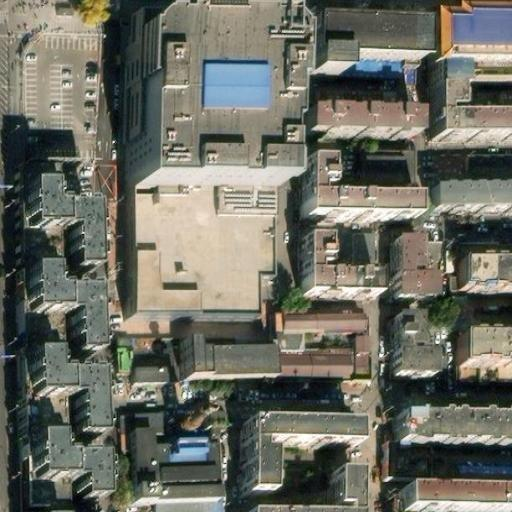building: (124, 23, 277, 197), (14, 175, 90, 512), (133, 193, 276, 326), (300, 154, 409, 214), (309, 111, 418, 165), (19, 195, 89, 277), (30, 365, 100, 445), (28, 282, 96, 362), (308, 22, 422, 67), (436, 10, 512, 75), (275, 334, 369, 381), (32, 450, 102, 510), (299, 237, 371, 294), (183, 338, 273, 380), (393, 426, 512, 455), (442, 92, 512, 141), (242, 420, 351, 446), (393, 313, 436, 378), (391, 235, 432, 300), (396, 490, 512, 512), (121, 411, 222, 436), (432, 174, 512, 205), (274, 314, 366, 338), (426, 459, 511, 484), (155, 448, 215, 480), (458, 262, 512, 295), (132, 437, 155, 512), (459, 329, 512, 360), (243, 446, 265, 494), (156, 495, 217, 512), (155, 479, 212, 497), (129, 361, 170, 385), (331, 472, 355, 512)
